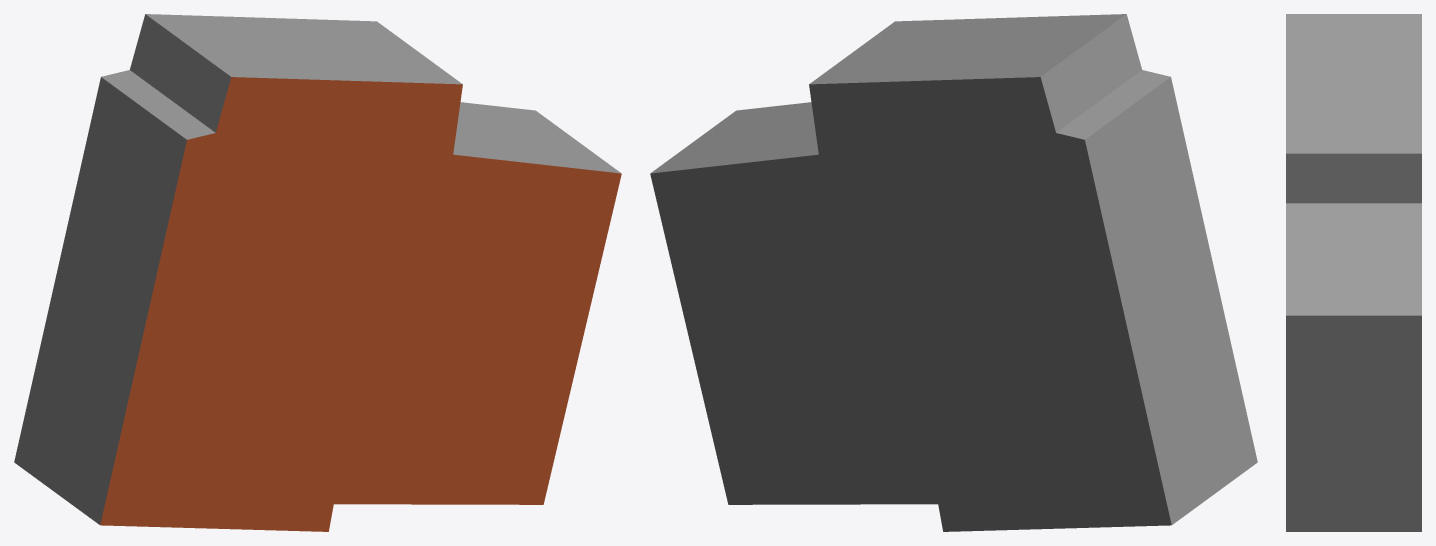
File: construction_5598_assumed_A_Casa_h6m.obj
3 renders of one model, left to right at view 1: azimuth 30°, elevation 25°; view 2: azimuth 150°, elevation 25°; view 3: azimuth 270°, elevation 25°, orthographic. The views are drawn at different scales.
Visible parts, largest first — view 1: construction_5598_assumed_A_Casa; view 2: construction_5598_assumed_A_Casa; view 3: construction_5598_assumed_A_Casa.
Boxes of the visible parts, x1,y1,x2,y2 form: construction_5598_assumed_A_Casa: (14, 14, 621, 531); construction_5598_assumed_A_Casa: (650, 14, 1257, 531); construction_5598_assumed_A_Casa: (1286, 14, 1421, 531).
Bounding box in the file's own units: 20.99 × 19.38 × 6.
